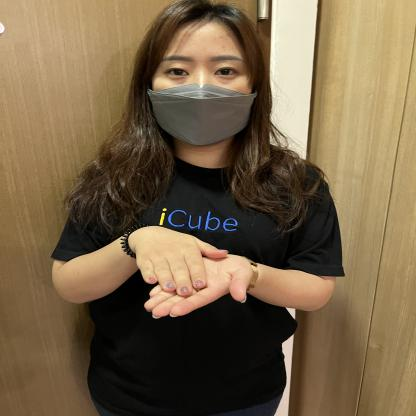Love: (61, 201, 328, 370)
